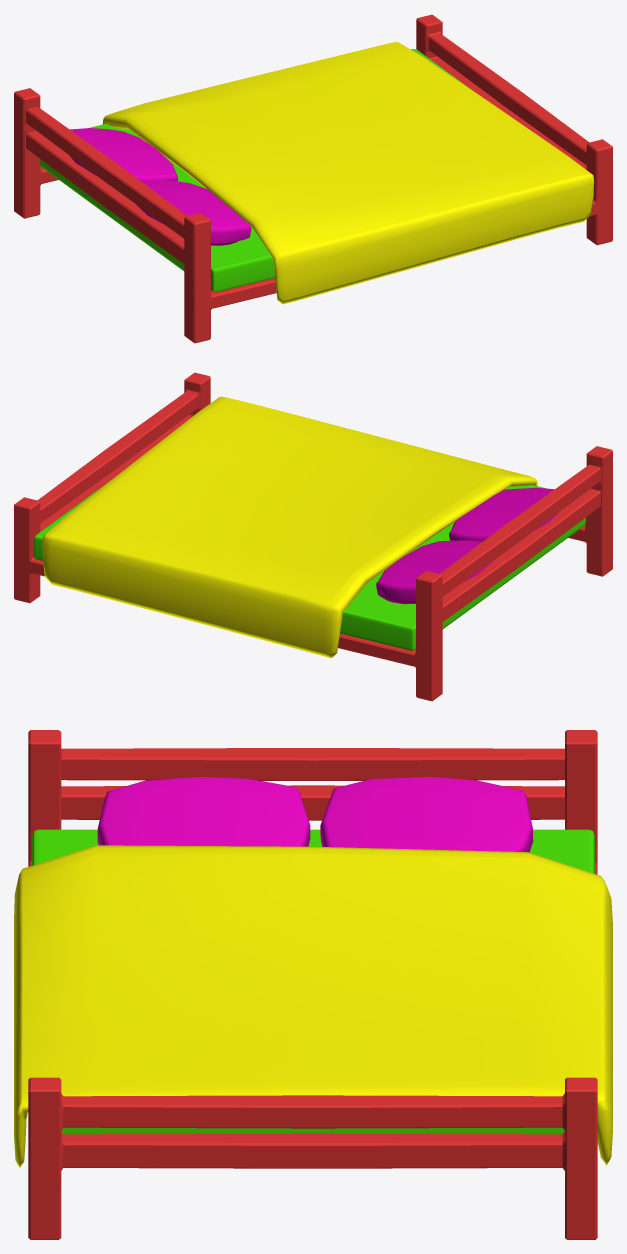
File: KingSizeBed.fbx
The picture shows the model from 3 angles, top to bottom: view 1: azimuth 30°, elevation 25°; view 2: azimuth 150°, elevation 25°; view 3: azimuth 270°, elevation 25°; orthographic projection. The views are drawn at different scales.
Parts seen in each view (by area): view 1: Blanket, BedFrame, Pillows, Matress; view 2: Blanket, BedFrame, Pillows, Matress; view 3: Blanket, BedFrame, Pillows, Matress.
Boxes of the visible parts, x1,y1,x2,y2 form: Blanket: [102, 42, 594, 304]; BedFrame: [14, 14, 612, 343]; Pillows: [69, 128, 251, 245]; Matress: [40, 49, 471, 292]; Blanket: [42, 396, 537, 657]; BedFrame: [14, 372, 612, 701]; Pillows: [376, 487, 557, 604]; Matress: [34, 478, 585, 650]; Blanket: [14, 845, 612, 1167]; BedFrame: [28, 730, 597, 1239]; Pillows: [97, 777, 533, 852]; Matress: [32, 829, 594, 1134].
Size of the model in its own units: 217 by 59.57 by 171.
